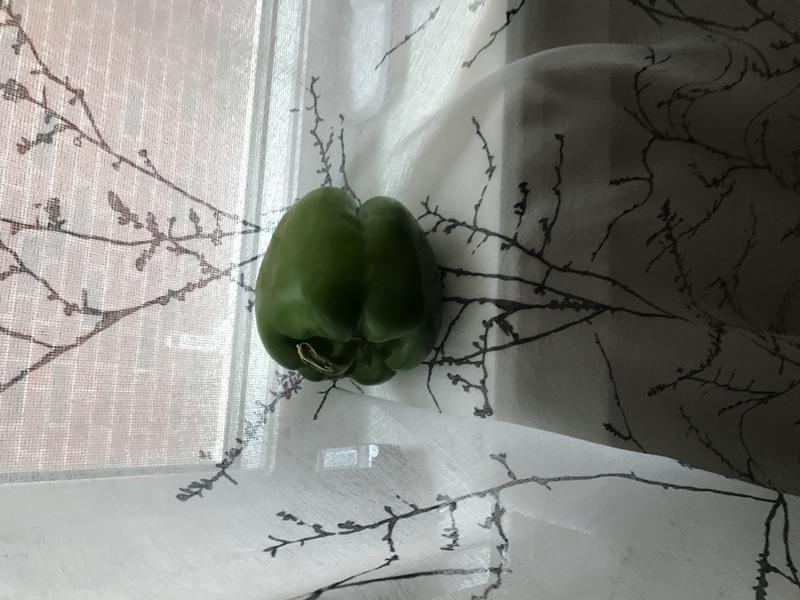green_pepper: (248, 179, 448, 388)
